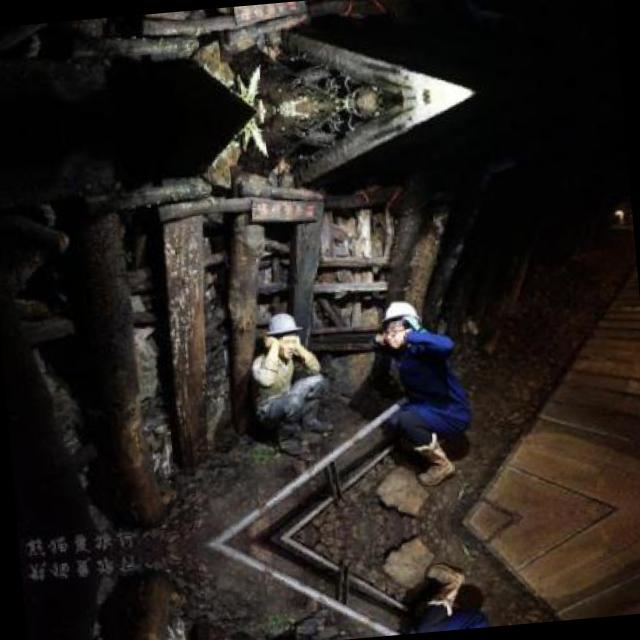helmet: (375, 296, 419, 342), (262, 310, 302, 356)
